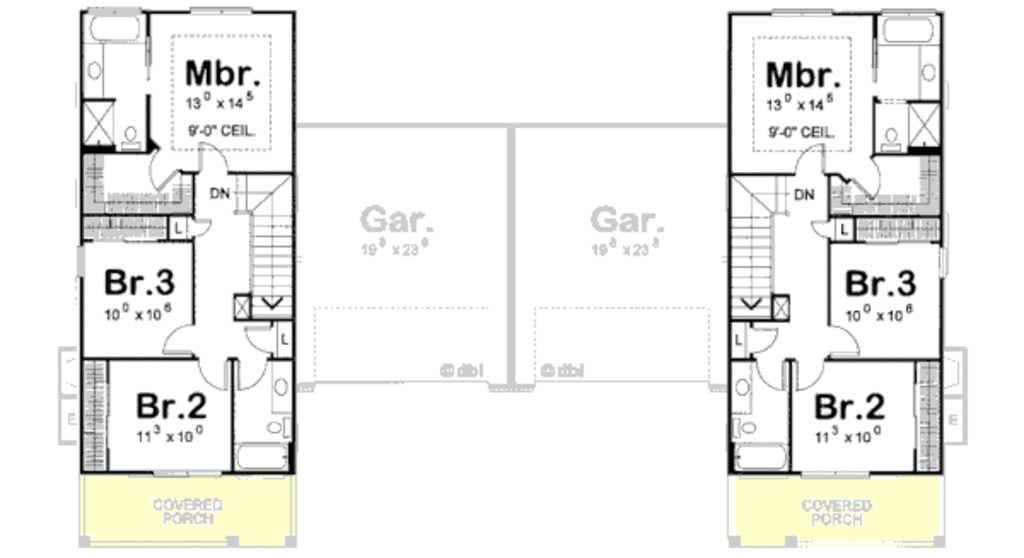door: (847, 153, 886, 203), (141, 147, 184, 190), (785, 136, 829, 174), (788, 355, 828, 393), (157, 315, 192, 358), (193, 140, 235, 173), (746, 322, 782, 357), (232, 355, 268, 390), (239, 318, 274, 353), (196, 356, 230, 390), (830, 323, 862, 359), (758, 360, 791, 394), (186, 216, 221, 243), (807, 217, 837, 240)
large_sink: (261, 413, 295, 441), (111, 122, 141, 153), (880, 124, 905, 152), (734, 417, 760, 440)
small_sink: (726, 360, 757, 417), (271, 362, 295, 411), (922, 45, 943, 97), (83, 51, 104, 97)
stairs: (223, 172, 299, 318), (732, 167, 793, 326)
tub: (79, 9, 151, 44), (877, 8, 940, 44), (727, 438, 789, 471), (235, 444, 295, 471)
window: (187, 3, 253, 17), (771, 7, 832, 16)
